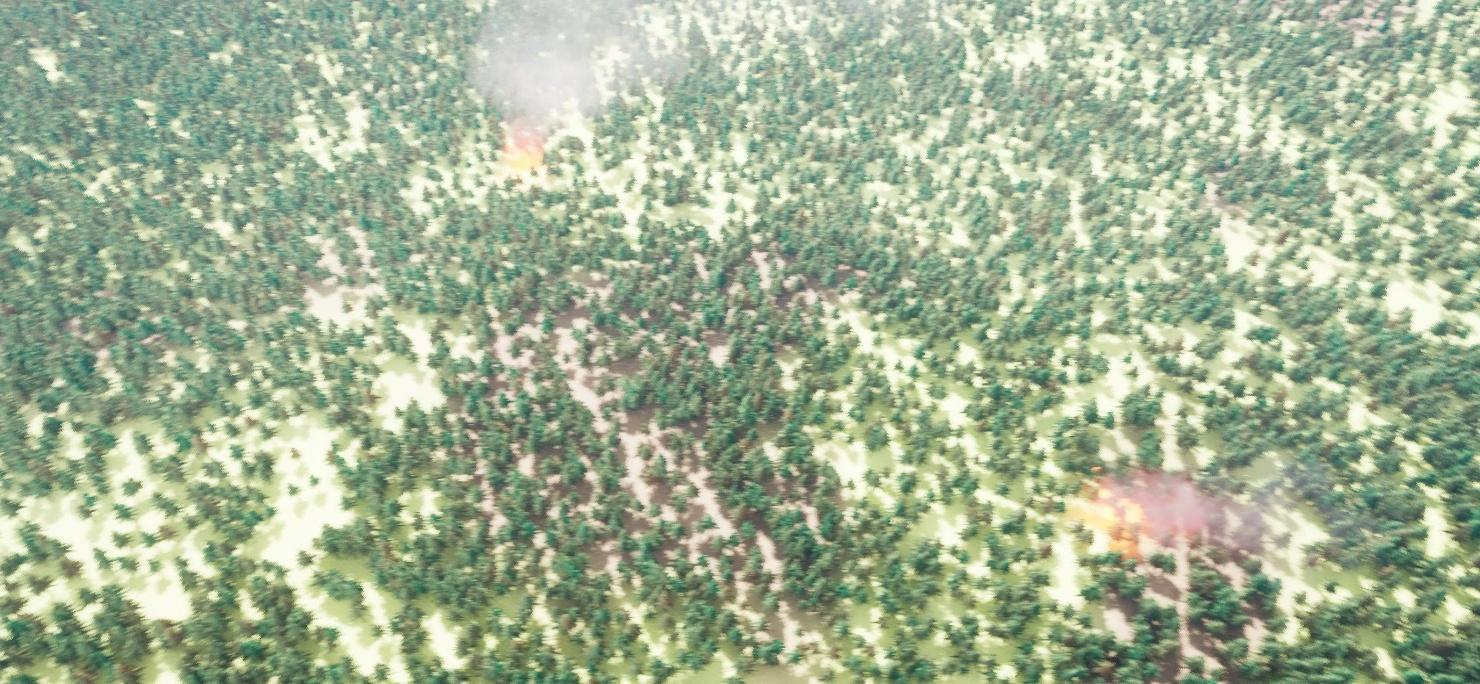fire: (1071, 479, 1149, 564), (487, 141, 551, 177)
smoke: (467, 0, 700, 129), (1121, 469, 1292, 549)
